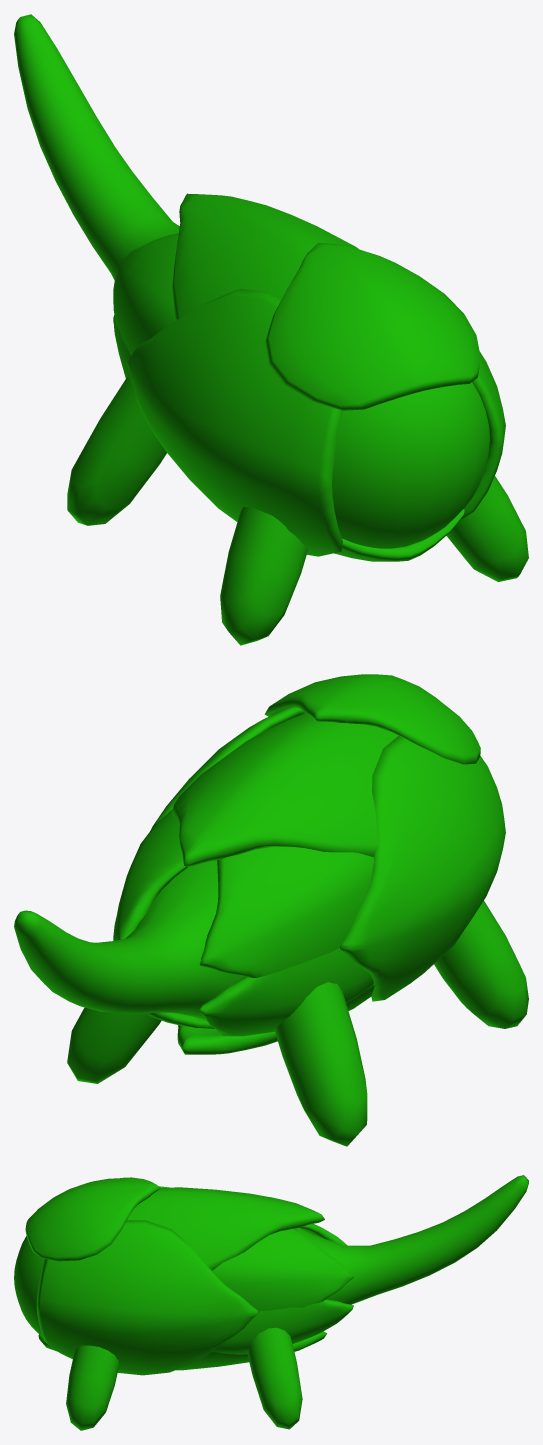
Rendered from C_figurine_model.fbx.
3 views of the same model, one above another, from view 1: azimuth 30°, elevation 25°; view 2: azimuth 150°, elevation 25°; view 3: azimuth 270°, elevation 25° (orthographic). The views are drawn at different scales.
Visible parts, largest first — view 1: C_figurine_model; view 2: C_figurine_model; view 3: C_figurine_model.
Boxes of the visible parts, left/top/right/bottom form: C_figurine_model: left=14, top=14, right=528, bottom=645; C_figurine_model: left=14, top=674, right=528, bottom=1146; C_figurine_model: left=14, top=1175, right=528, bottom=1430.
Size of the model in its own units: 39.22 by 42.57 by 93.63.
1 material, 1 textured.
